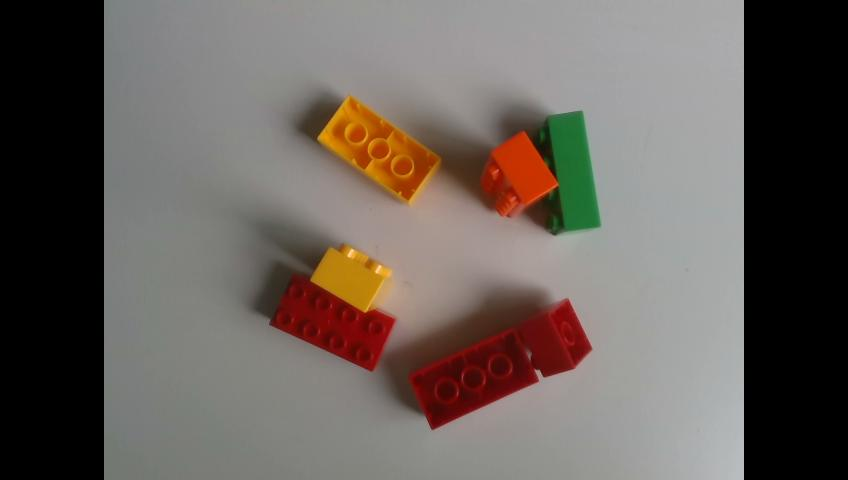2x2_red: (519, 299, 593, 379)
2x2_yellow: (309, 242, 396, 311)
4x2_green: (535, 110, 602, 238)
4x2_orange: (478, 129, 560, 220)
4x2_red: (410, 326, 539, 432), (268, 272, 400, 372)
4x2_yellow: (317, 94, 441, 208)
